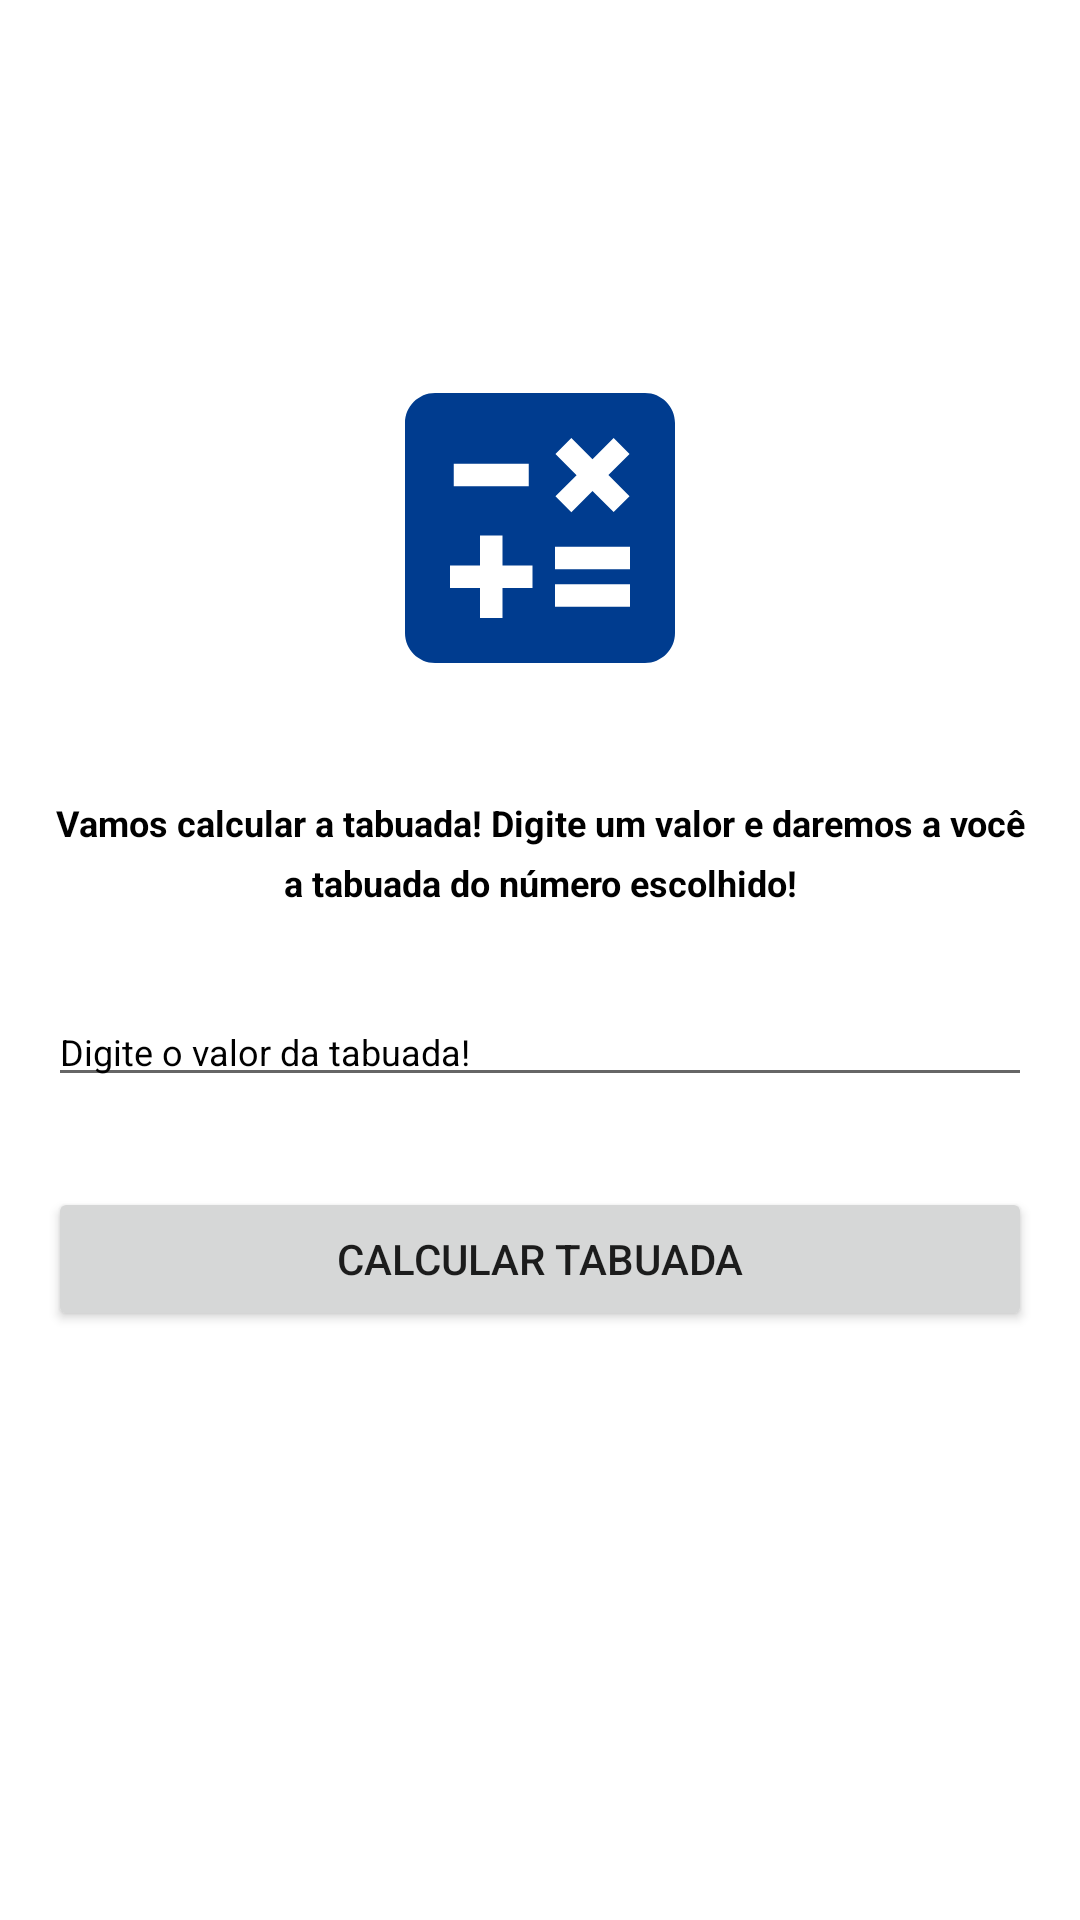

Icon bounding boxes for this 1080px×1920px phone screenshot, format (x1, y1, x2, y2):
calculadora: (405, 393, 675, 663)
